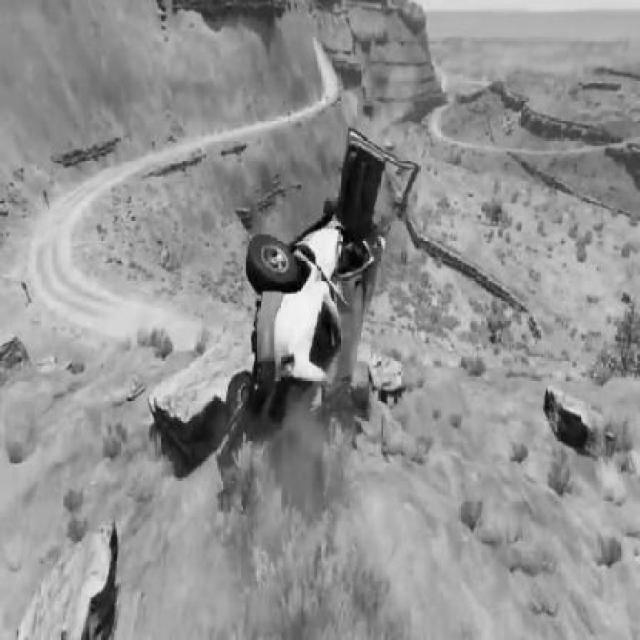accident: (238, 121, 420, 450)
